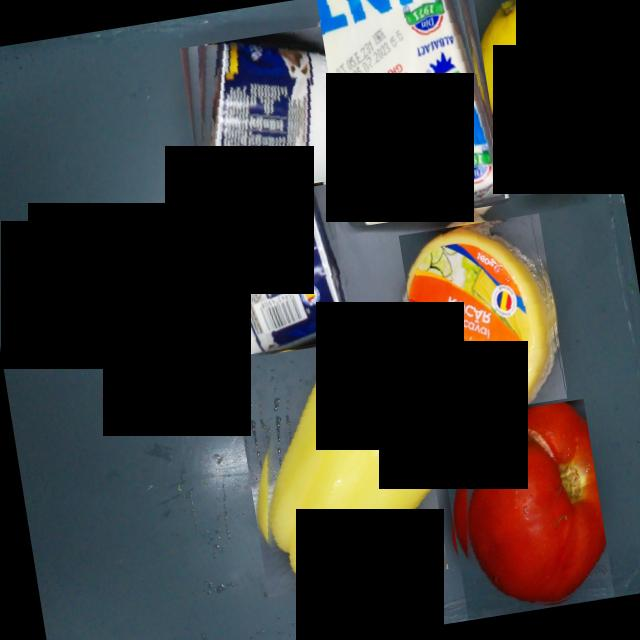butter: (316, 0, 509, 228)
cheese: (399, 214, 569, 420)
lemon: (473, 0, 621, 198)
pepper: (231, 332, 449, 598)
tomatoes: (437, 398, 615, 620)
yogurt: (180, 26, 351, 200), (186, 184, 354, 360)
